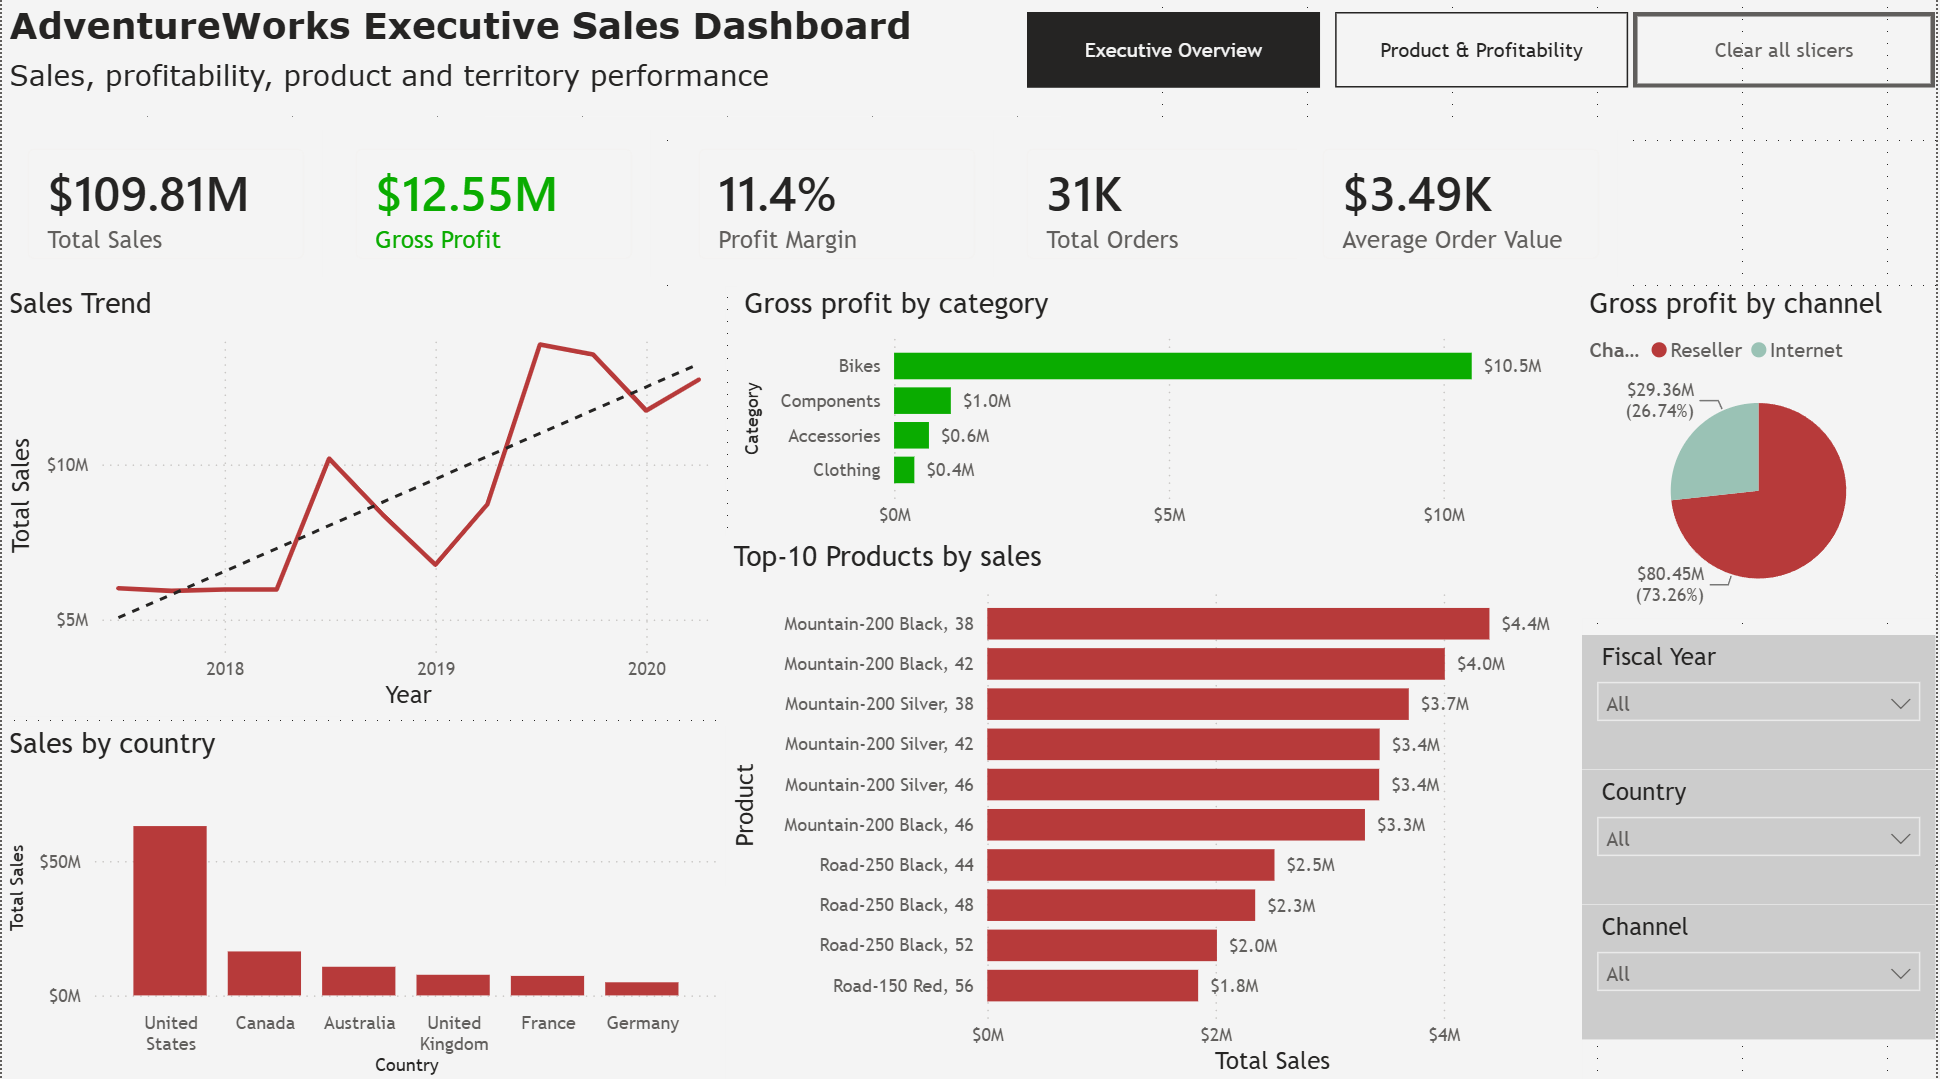

The dashboard page shown, as its layout file describes it:
{"tool":"powerbi","page":{"name":"Executive Overview","canvas":[1280,720],"ordinal":0},"visuals":[{"type":"cardVisual","fields":{"Data":["Measures (2).Total Sales"]},"box":[0,84.7,217.2,107.9],"z":0},{"type":"cardVisual","fields":{"Data":["Measures (2).Gross Profit"]},"box":[217.2,84.7,217.2,107.9],"z":1000},{"type":"cardVisual","fields":{"Data":["Measures (2).Profit Margin"]},"box":[444.2,84.7,217.2,107.9],"z":2000},{"type":"cardVisual","fields":{"Data":["Measures (2).Total Orders"]},"box":[661.4,84.7,217.2,107.9],"z":3000},{"type":"cardVisual","fields":{"Data":["Measures (2).Average Order Value"]},"box":[857.4,84.7,217.2,107.9],"z":4000},{"type":"lineChart","title":"Sales Trend","fields":{"Category":["Dim_Date.Month.Variation.Date Hierarchy.Year","Dim_Date.Month.Variation.Date Hierarchy.Quarter","Dim_Date.Month.Variation.Date Hierarchy.Month","Dim_Date.Month.Variation.Date Hierarchy.Day"],"Y":["Measures (2).Total Sales"]},"box":[0,192.7,479.3,285.4],"z":5000},{"type":"clusteredBarChart","title":"Gross profit by category","fields":{"Y":["Measures (2).Gross Profit"],"Category":["Dim_Product.Category"]},"box":[486.6,192.7,559.4,167.5],"z":6000},{"type":"clusteredColumnChart","title":"Sales by country","fields":{"Y":["Measures (2).Total Sales"],"Category":["Dim_SalesTerritory.Country"]},"box":[0,484,479.3,236.4],"z":7000},{"type":"clusteredBarChart","title":"Top-10 Products by sales","fields":{"Y":["Measures (2).Total Sales"],"Category":["Dim_Product.Product"]},"box":[479.3,360.2,566.7,360.2],"z":8000},{"type":"pieChart","title":"Gross profit by channel","fields":{"Category":["Dim_SalesOrder.Channel"],"Y":["Measures (2).Total Sales"]},"box":[1046.1,192.7,233.7,220.5],"z":9000},{"type":"slicer","fields":{"Values":["Dim_Date.Fiscal Year"]},"box":[1046.1,423.7,233.7,89.4],"z":10000},{"type":"textbox","box":[0,0,701.1,43.7],"z":13000},{"type":"textbox","box":[0,36.4,701.1,43.7],"z":14000},{"type":"actionButton","box":[1079.8,11.3,199.9,50.3],"z":15000},{"type":"pageNavigator","box":[678.6,11.3,399.9,50.3],"z":16001},{"type":"slicer","fields":{"Values":["Dim_SalesTerritory.Country"]},"box":[1046.1,513.1,233.7,89.4],"z":16002},{"type":"slicer","fields":{"Values":["Dim_SalesOrder.Channel"]},"box":[1046.1,602.5,233.7,89.4],"z":16003}]}

Visuals, with their boxes in screenshot pixels (x1, y1, x2, y2), scaled from the page's 1280x720 canvas onto the 1940x1079 screenshot:
cardVisual - Measures (2).Total Sales: BBox(0, 127, 329, 289)
cardVisual - Measures (2).Gross Profit: BBox(329, 127, 658, 289)
cardVisual - Measures (2).Profit Margin: BBox(673, 127, 1002, 289)
cardVisual - Measures (2).Total Orders: BBox(1002, 127, 1332, 289)
cardVisual - Measures (2).Average Order Value: BBox(1299, 127, 1629, 289)
"Sales Trend" lineChart: BBox(0, 289, 726, 716)
"Gross profit by category" clusteredBarChart: BBox(738, 289, 1585, 540)
"Sales by country" clusteredColumnChart: BBox(0, 725, 726, 1078)
"Top-10 Products by sales" clusteredBarChart: BBox(726, 540, 1585, 1078)
"Gross profit by channel" pieChart: BBox(1585, 289, 1939, 619)
slicer - Dim_Date.Fiscal Year: BBox(1585, 635, 1939, 769)
textbox: BBox(0, 0, 1063, 65)
textbox: BBox(0, 55, 1063, 120)
actionButton: BBox(1637, 17, 1939, 92)
pageNavigator: BBox(1029, 17, 1635, 92)
slicer - Dim_SalesTerritory.Country: BBox(1585, 769, 1939, 903)
slicer - Dim_SalesOrder.Channel: BBox(1585, 903, 1939, 1037)
